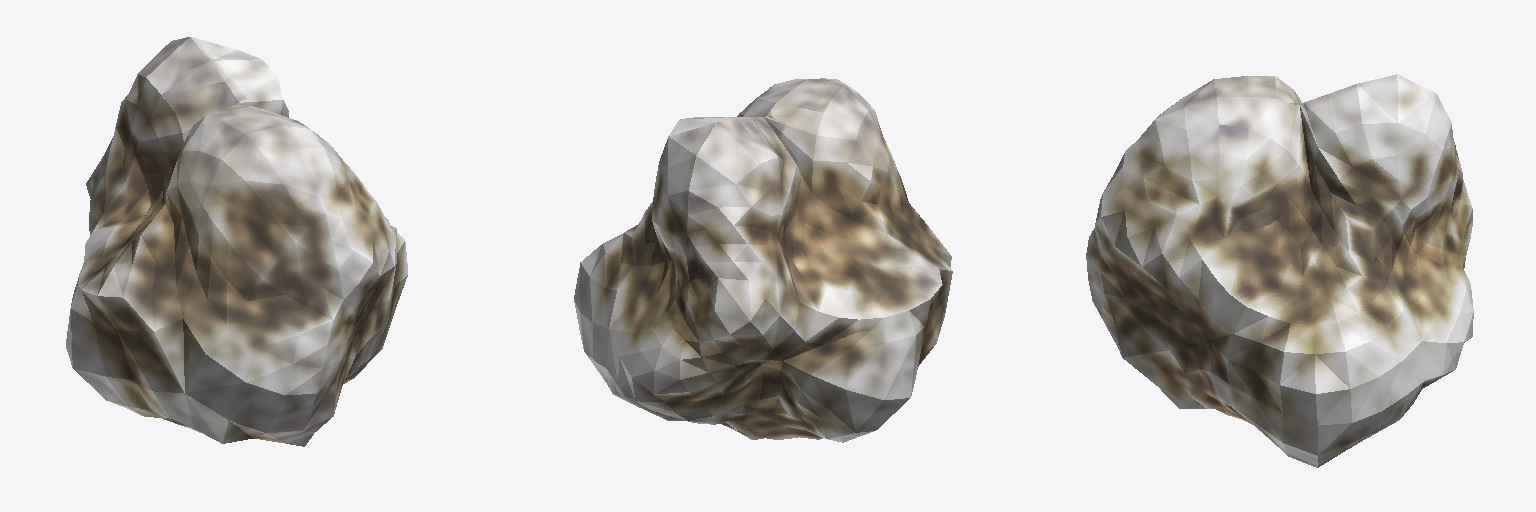
3 renders of one model, left to right at view 1: azimuth 30°, elevation 25°; view 2: azimuth 150°, elevation 25°; view 3: azimuth 270°, elevation 25°, orthographic.
Visible parts, largest first — view 1: test-rock; view 2: test-rock; view 3: test-rock.
Part boxes in pixels (bbox=[...]): test-rock: bbox=[66, 37, 407, 446]; test-rock: bbox=[574, 78, 952, 442]; test-rock: bbox=[1086, 74, 1473, 467].
Size of the model in its own units: 1.56 by 1.57 by 1.55.
Materials: 1 (1 with a texture image).